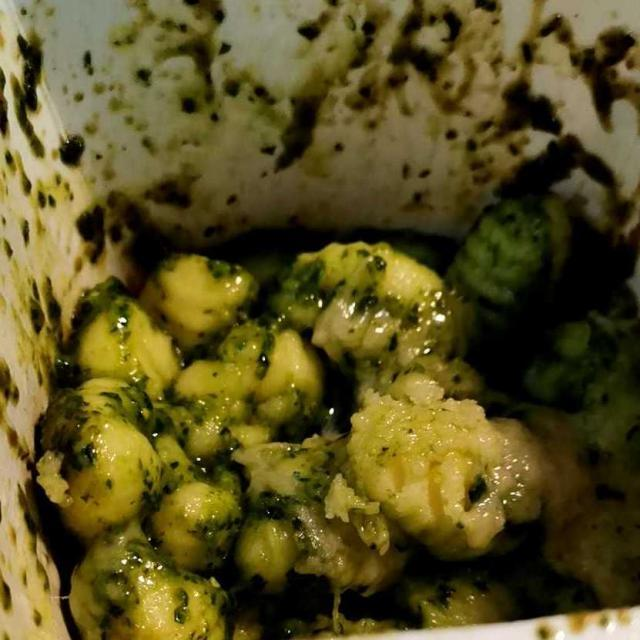gnocchi: (18, 185, 636, 634)
sauce: (18, 20, 634, 624)
